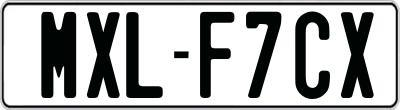7: (246, 12, 285, 99)
C: (293, 11, 332, 100)
F: (199, 10, 233, 100)
L: (125, 9, 163, 97)
M: (39, 9, 80, 100)
X: (86, 10, 121, 97), (339, 11, 374, 98)
